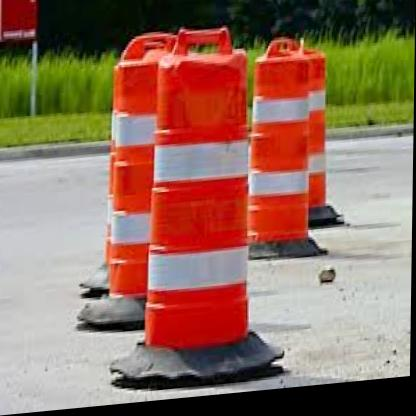obstacle: (140, 28, 257, 356), (248, 46, 310, 248)
